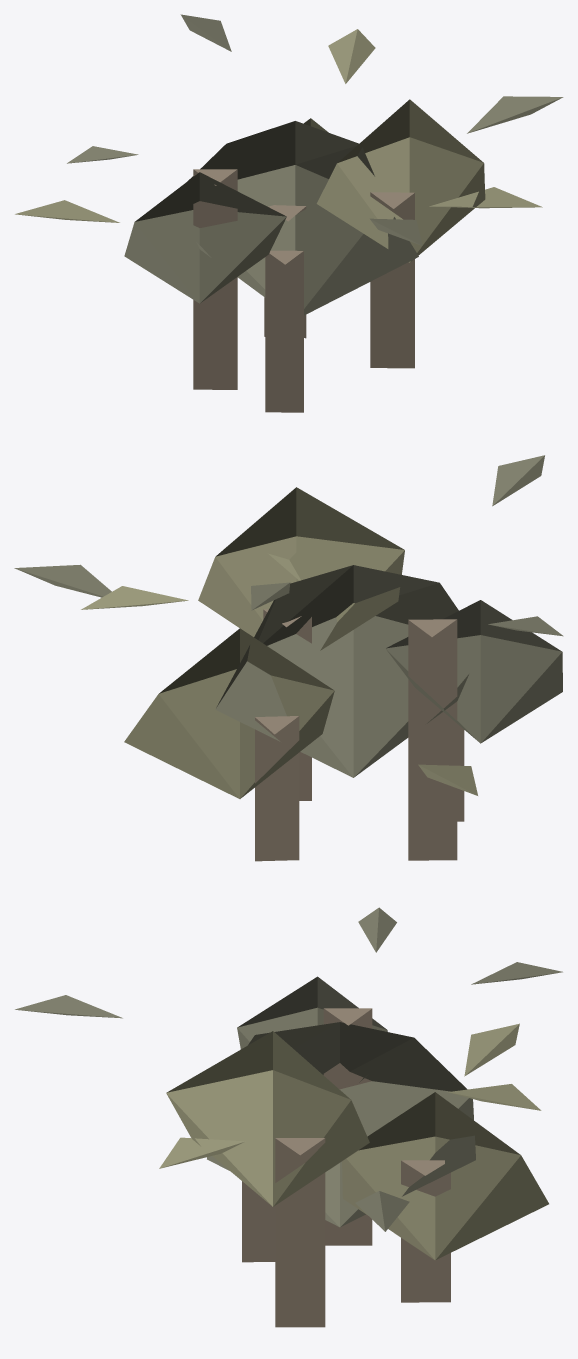
File: guan.moli@subadult__winter.glb
3 views of the same model, one above another, from view 1: azimuth 30°, elevation 25°; view 2: azimuth 150°, elevation 25°; view 3: azimuth 270°, elevation 25° (orthographic). The views are drawn at different scales.
Parts seen in each view (by area): view 1: guan.moli@subadult__winter; view 2: guan.moli@subadult__winter; view 3: guan.moli@subadult__winter.
Part boxes in pixels (box(x1,y1,x2,y2)): guan.moli@subadult__winter: box(15, 14, 563, 412); guan.moli@subadult__winter: box(14, 455, 563, 861); guan.moli@subadult__winter: box(15, 907, 562, 1327).
Bounding box in the file's own units: 1.28 × 0.7227 × 1.14.
